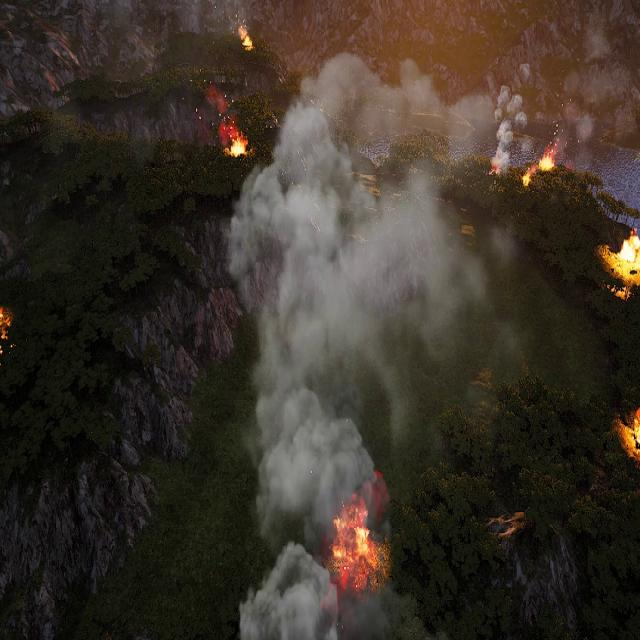fire: (332, 488, 389, 597), (614, 229, 640, 277), (628, 408, 640, 463), (0, 309, 12, 355), (231, 136, 248, 157), (538, 150, 554, 172), (238, 24, 251, 48), (490, 164, 499, 178), (523, 172, 531, 186)
smoke: (220, 46, 520, 640), (556, 22, 612, 162), (490, 94, 528, 178)
